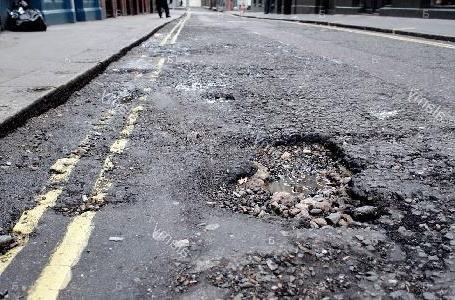pothole: (201, 129, 390, 231), (202, 90, 235, 101)
